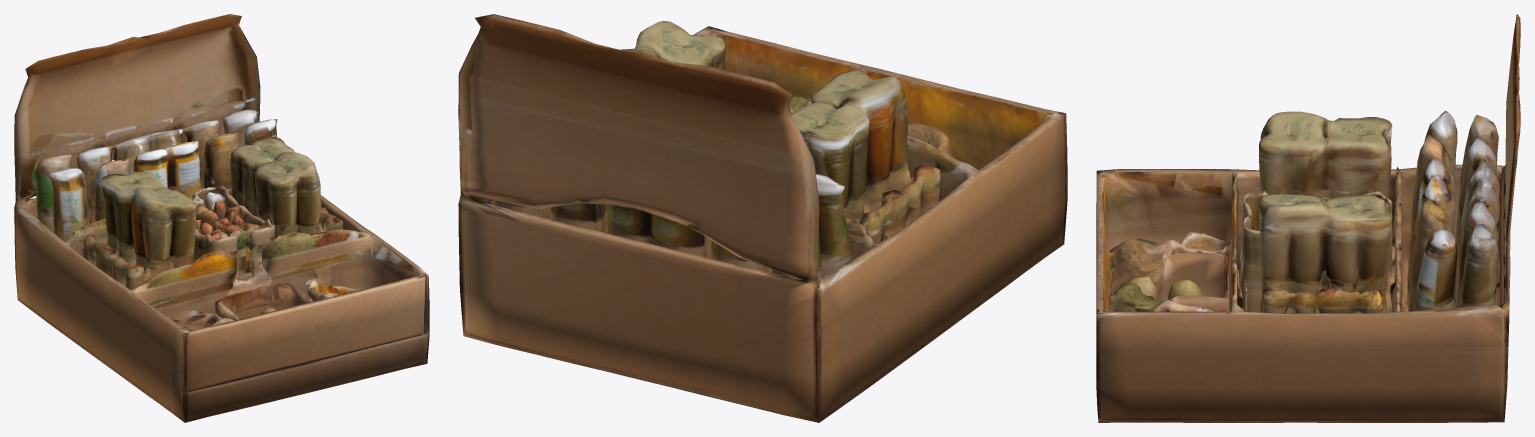
The picture shows the model from 3 angles, left to right: view 1: azimuth 30°, elevation 25°; view 2: azimuth 150°, elevation 25°; view 3: azimuth 270°, elevation 25°; orthographic projection. The views are drawn at different scales.
Visible parts, largest first — view 1: Mesh_0; view 2: Mesh_0; view 3: Mesh_0.
Part boxes in pixels (bbox=[...]): Mesh_0: bbox=[14, 14, 429, 422]; Mesh_0: bbox=[458, 14, 1067, 422]; Mesh_0: bbox=[1096, 14, 1520, 422].
Size of the model in its own units: 1.63 by 1.45 by 2.
1 material, 1 textured.
